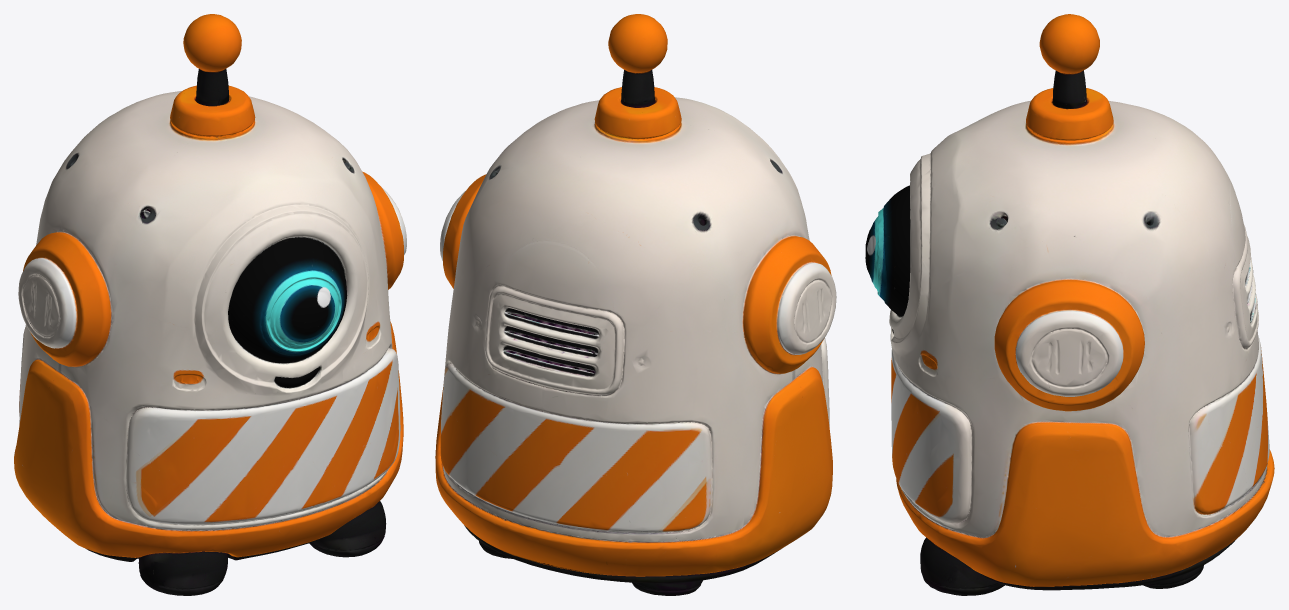
The model's file is prop_robot.glb.
The picture shows the model from 3 angles, left to right: view 1: azimuth 30°, elevation 25°; view 2: azimuth 150°, elevation 25°; view 3: azimuth 270°, elevation 25°; orthographic projection. The views are drawn at different scales.
Bounding box in the file's own units: 1.37 × 1.9 × 1.34.
1 material, 1 textured.
